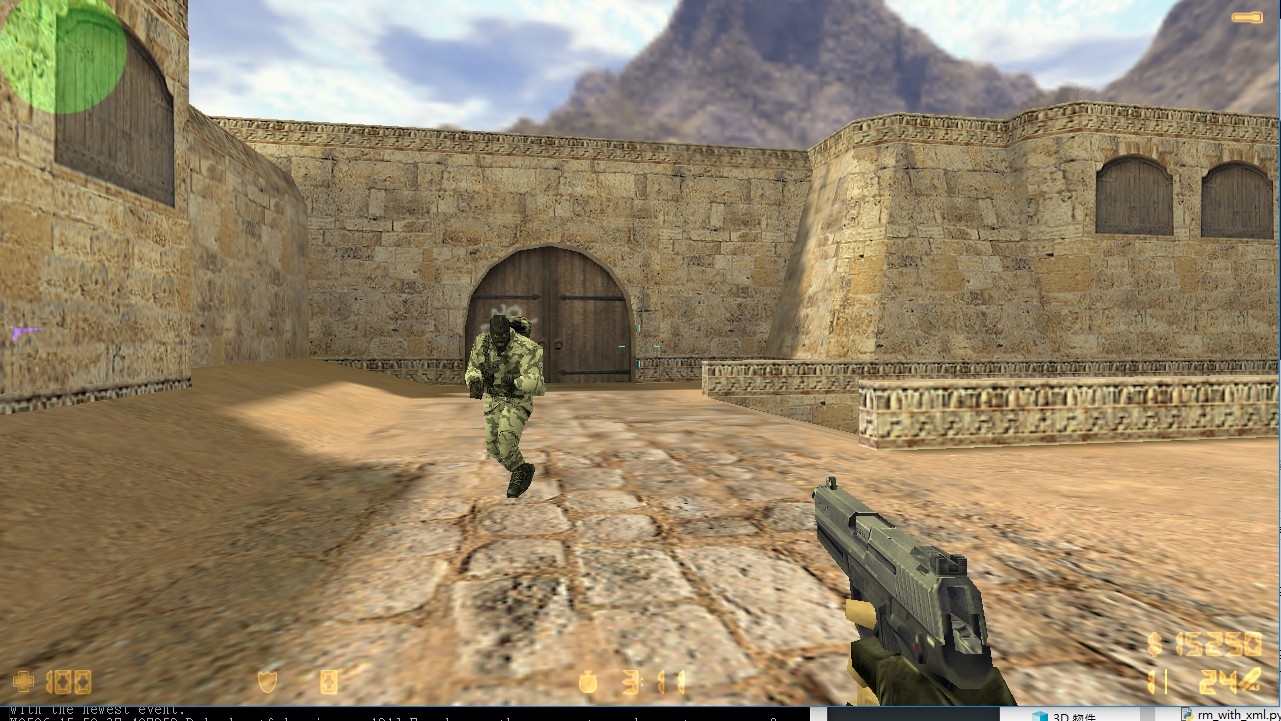person: (465, 312, 550, 500)
